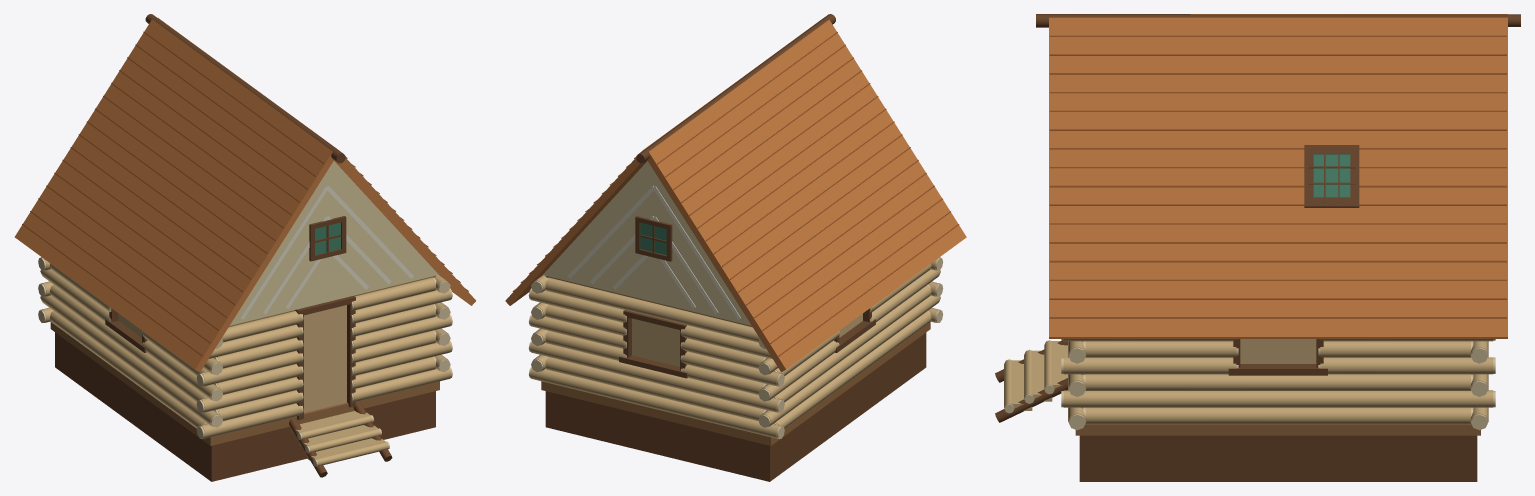
Rendered from guest_orange.glb.
3 views of the same model, side by side, from view 1: azimuth 30°, elevation 25°; view 2: azimuth 150°, elevation 25°; view 3: azimuth 270°, elevation 25° (orthographic). The views are drawn at different scales.
Parts seen in each view (by area): view 1: guest_orange, guest_orange_far, guest_orange_pane; view 2: guest_orange, guest_orange_far, guest_orange_pane; view 3: guest_orange_far, guest_orange, guest_orange_pane.
Part boxes in pixels (x1,y1,x2,y2): guest_orange: [22, 14, 475, 477]; guest_orange_far: [14, 82, 470, 481]; guest_orange_pane: [315, 222, 340, 254]; guest_orange: [512, 14, 959, 445]; guest_orange_far: [505, 81, 966, 481]; guest_orange_pane: [640, 222, 666, 255]; guest_orange_far: [1049, 14, 1507, 481]; guest_orange: [995, 14, 1520, 435]; guest_orange_pane: [1313, 154, 1350, 197].
Size of the model in its own units: 5.39 by 5.74 by 6.88.
